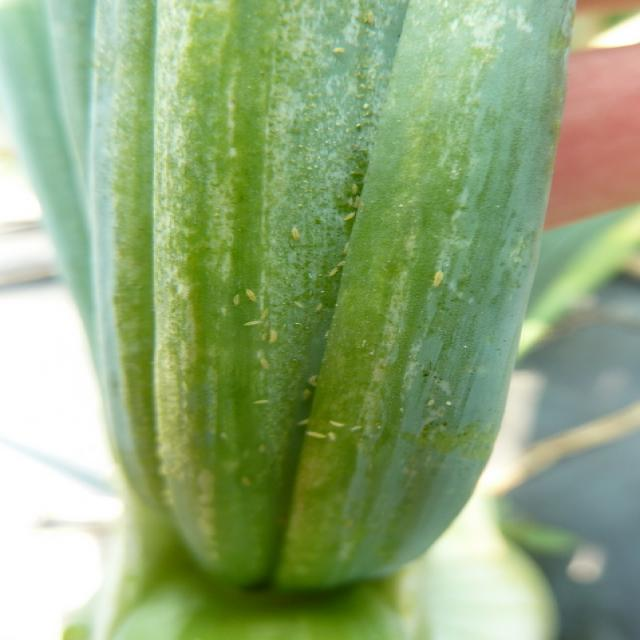Thrip-Group-: (195, 156, 471, 458)
Thrip-Larva-: (426, 266, 455, 292), (285, 218, 308, 246), (255, 355, 279, 373), (266, 327, 285, 347), (242, 287, 264, 303), (227, 291, 246, 309), (301, 429, 328, 441), (322, 418, 352, 428), (338, 210, 360, 222), (324, 428, 340, 444), (256, 307, 274, 321), (240, 318, 264, 328)
